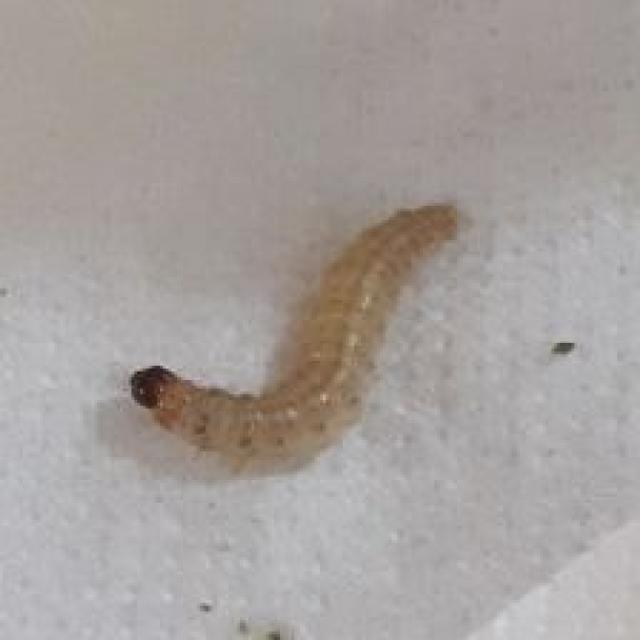white mucus: (99, 166, 480, 515)
